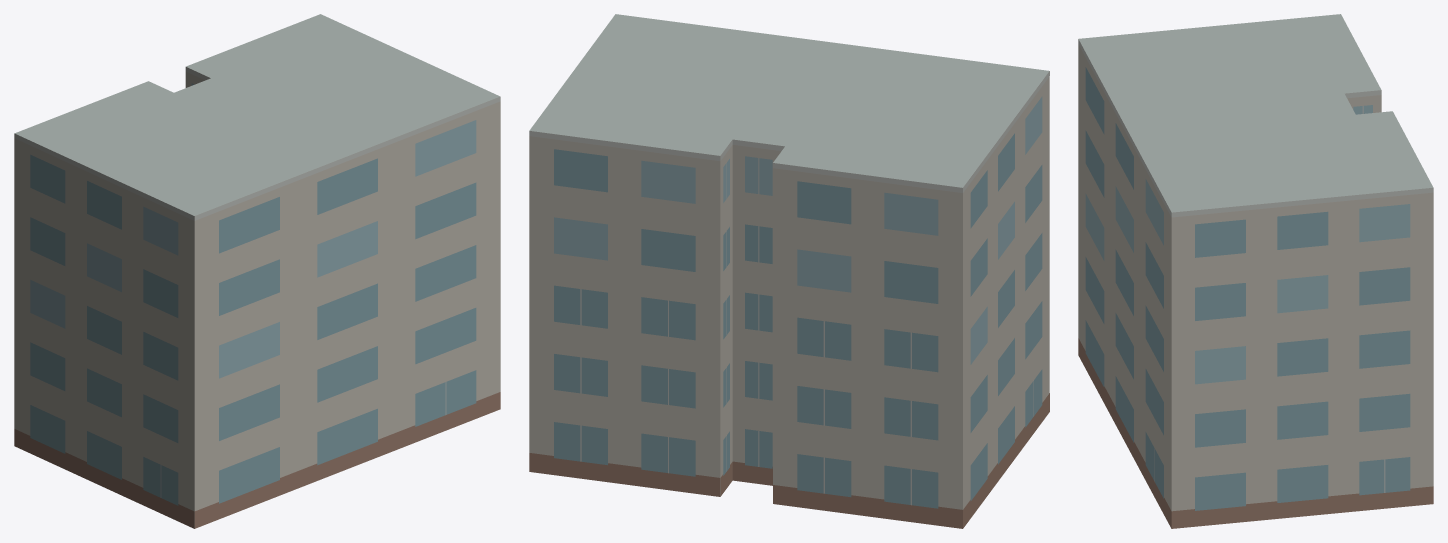
File: survey-upis-32862852.glb
The picture shows the model from 3 angles, left to right: view 1: azimuth 30°, elevation 25°; view 2: azimuth 150°, elevation 25°; view 3: azimuth 270°, elevation 25°; orthographic projection. The views are drawn at different scales.
Visible parts, largest first — view 1: survey-upis-32862852.tmp; view 2: survey-upis-32862852.tmp; view 3: survey-upis-32862852.tmp.
Boxes of the visible parts, bbox=[...] form: survey-upis-32862852.tmp: bbox=[14, 14, 500, 528]; survey-upis-32862852.tmp: bbox=[529, 14, 1049, 528]; survey-upis-32862852.tmp: bbox=[1078, 14, 1433, 528].
Size of the model in its own units: 21.15 by 15.7 by 15.99.
